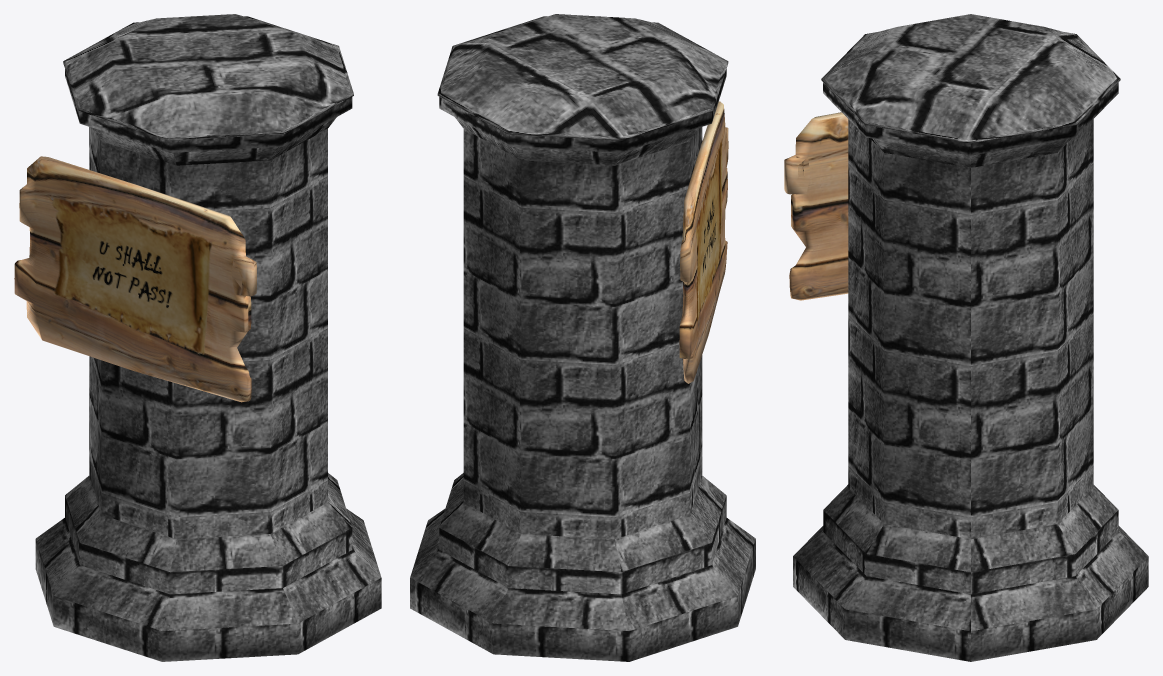
The model's file is Tower_AOE_slow.fbx.
The picture shows the model from 3 angles, left to right: view 1: azimuth 30°, elevation 25°; view 2: azimuth 150°, elevation 25°; view 3: azimuth 270°, elevation 25°; orthographic projection.
Visible parts, largest first — view 1: Cylinder; view 2: Cylinder; view 3: Cylinder.
Part boxes in pixels (<box>): Cylinder: <box>14,14,381,661</box>; Cylinder: <box>410,14,755,661</box>; Cylinder: <box>784,14,1148,661</box>.
Bounding box in the file's own units: 2 × 3.28 × 2.05.
1 material, 1 textured.
